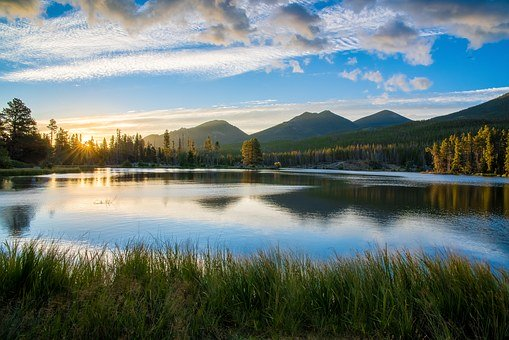forest: (13, 256, 504, 336)
lake: (13, 167, 503, 255)
mountain: (20, 119, 505, 173)
sky: (4, 3, 504, 109)
tree: (4, 100, 41, 164)
